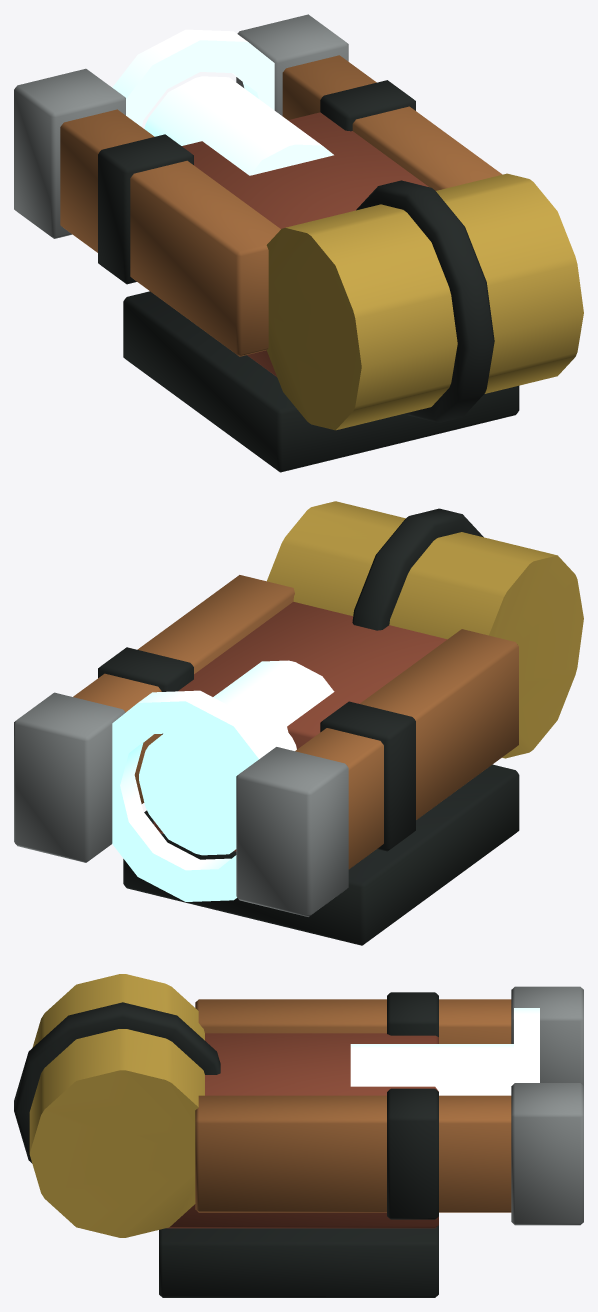
File: act_magnet_sling_pod.glb
3 views of the same model, one above another, from view 1: azimuth 30°, elevation 25°; view 2: azimuth 150°, elevation 25°; view 3: azimuth 270°, elevation 25° (orthographic). The views are drawn at different scales.
Parts seen in each view (by area): view 1: act_magnet_sling_pod_mesh; view 2: act_magnet_sling_pod_mesh; view 3: act_magnet_sling_pod_mesh.
Boxes of the visible parts, x1,y1,x2,y2 form: act_magnet_sling_pod_mesh: (14,14,583,472); act_magnet_sling_pod_mesh: (14,501,583,945); act_magnet_sling_pod_mesh: (14,974,583,1297).
Size of the model in its own units: 0.59 by 0.51 by 1.1.
